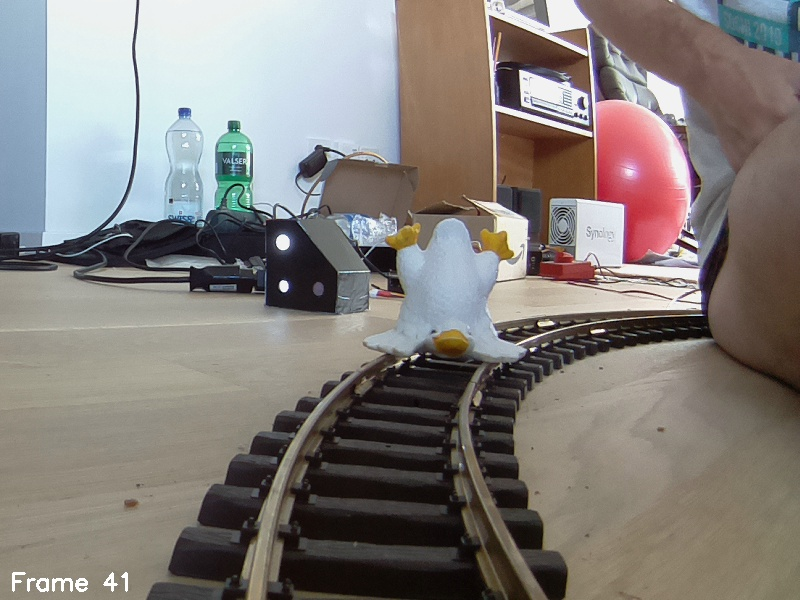Ente: (360, 215, 534, 370)
Fahrt: (265, 216, 370, 314)
